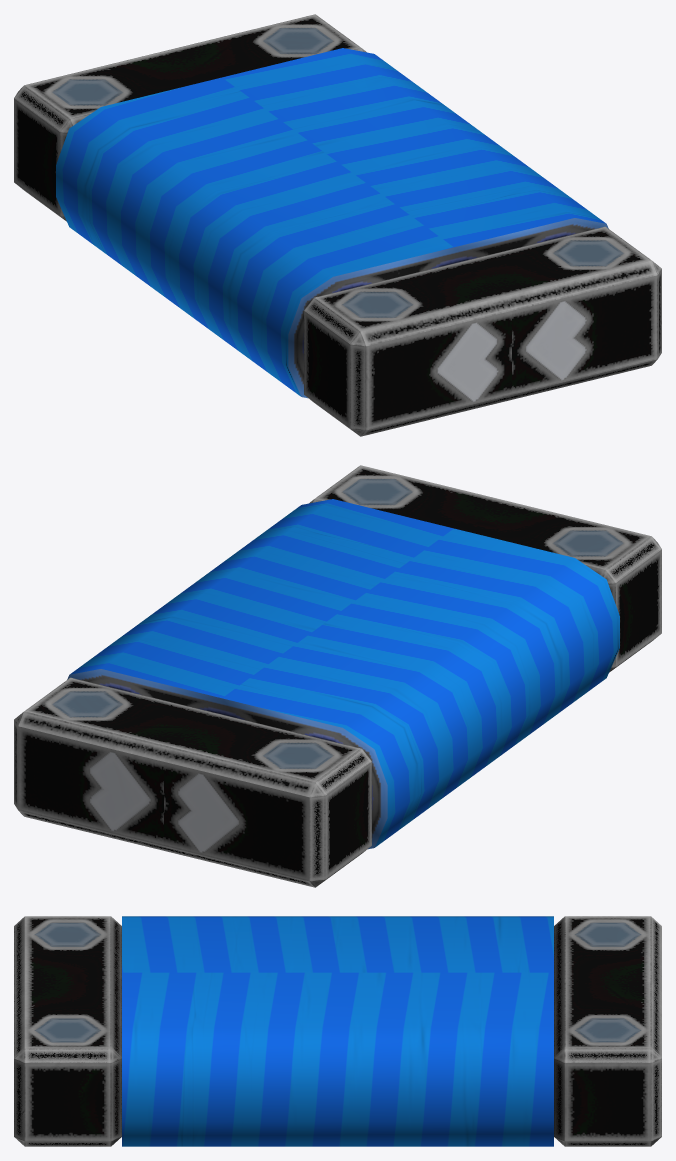
File: obj_factory_belt_small.fbx
3 views of the same model, one above another, from view 1: azimuth 30°, elevation 25°; view 2: azimuth 150°, elevation 25°; view 3: azimuth 270°, elevation 25° (orthographic). The views are drawn at different scales.
Parts seen in each view (by area): view 1: Small Belt; view 2: Small Belt; view 3: Small Belt.
Boxes of the visible parts, left/top/right/bottom form: Small Belt: left=14, top=14, right=661, bottom=436; Small Belt: left=14, top=465, right=661, bottom=887; Small Belt: left=14, top=916, right=661, bottom=1146.
Size of the model in its own units: 6 by 3.3 by 1.2.
